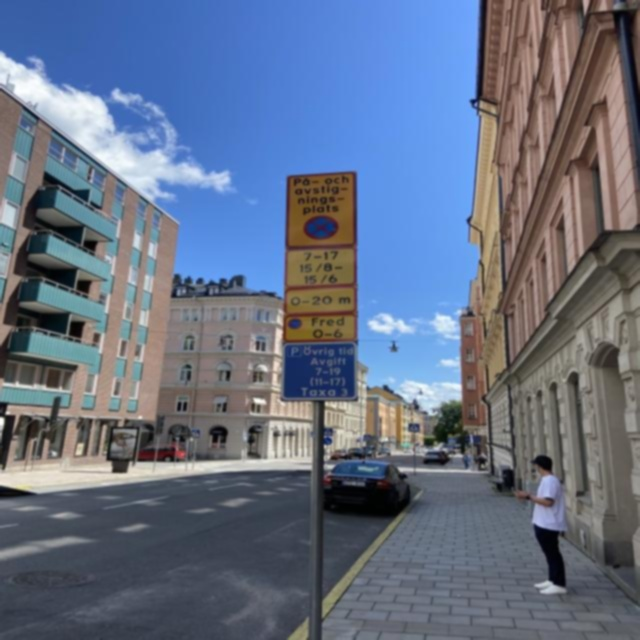avstignnigsplats: (282, 170, 360, 251)
